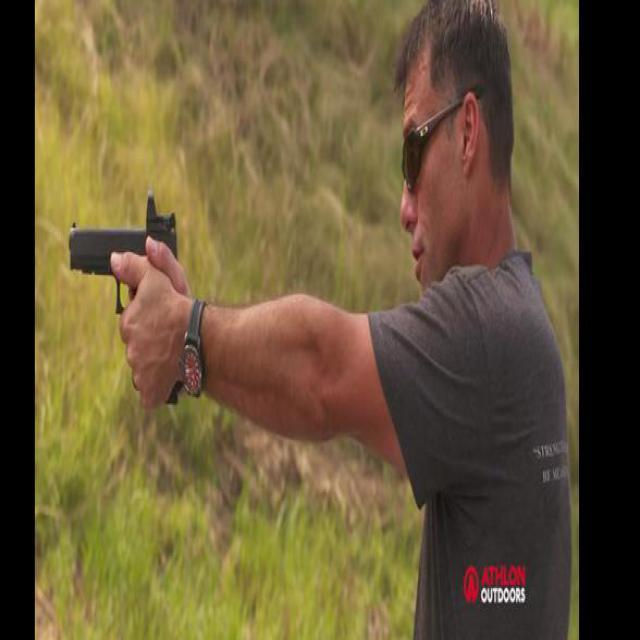Gun: (62, 200, 185, 405)
